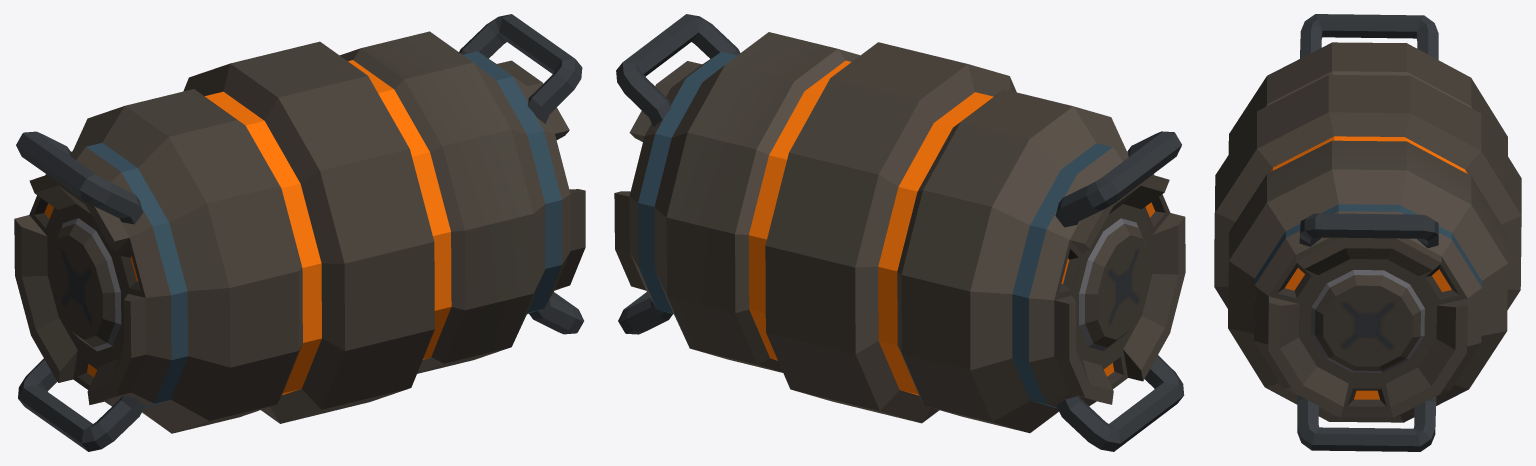
Rendered from SM_Mech_Back_01_Battery_02.fbx.
The picture shows the model from 3 angles, left to right: view 1: azimuth 30°, elevation 25°; view 2: azimuth 150°, elevation 25°; view 3: azimuth 270°, elevation 25°; orthographic projection. The views are drawn at different scales.
Parts seen in each view (by area): view 1: SM_Mech_Back_01_Battery_02; view 2: SM_Mech_Back_01_Battery_02; view 3: SM_Mech_Back_01_Battery_02.
Boxes of the visible parts, box(x1,y1,x2,y2) form: SM_Mech_Back_01_Battery_02: box(14, 14, 585, 451); SM_Mech_Back_01_Battery_02: box(614, 14, 1185, 451); SM_Mech_Back_01_Battery_02: box(1214, 14, 1521, 451).
Bounding box in the file's own units: 104 × 64.28 × 64.28.
